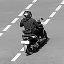motor: (19, 10, 50, 54)
